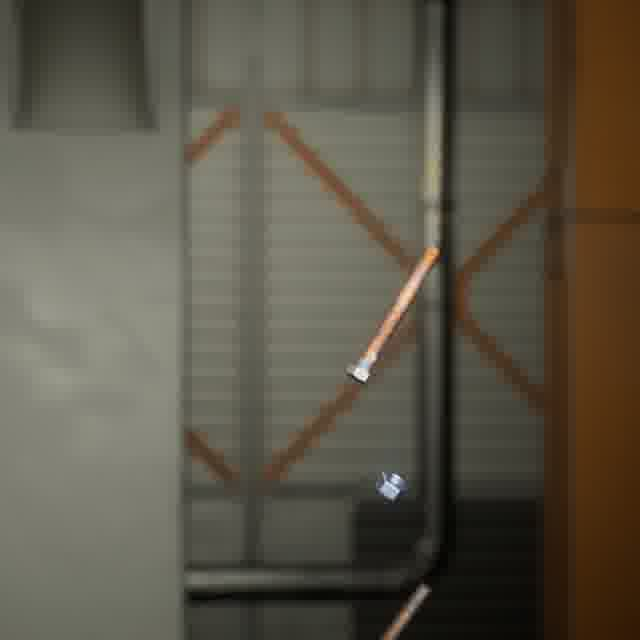bolt: (340, 241, 444, 390), (375, 578, 435, 640)
nut: (371, 465, 413, 504)
